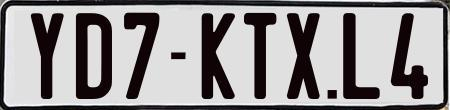4: (390, 12, 432, 101)
7: (123, 10, 161, 102)
D: (75, 13, 115, 99)
K: (202, 13, 239, 99)
L: (343, 13, 382, 105)
T: (243, 11, 280, 97)
X: (284, 12, 317, 100)
Y: (28, 12, 62, 100)
